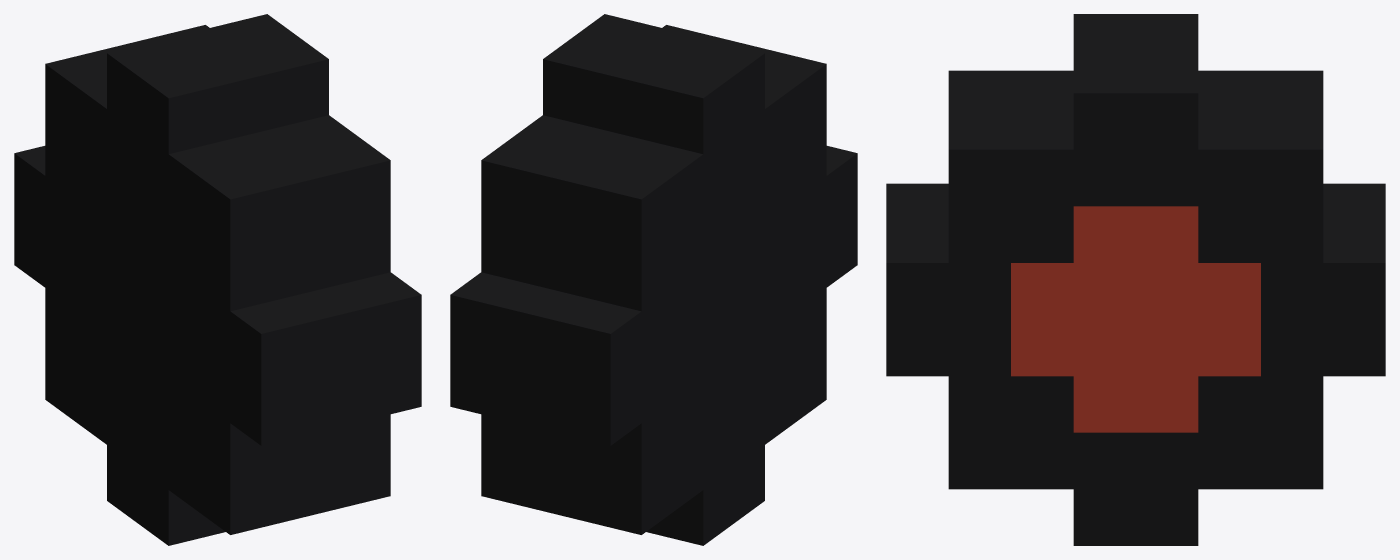
The model's file is wheel_apex.obj.
3 renders of one model, left to right at view 1: azimuth 30°, elevation 25°; view 2: azimuth 150°, elevation 25°; view 3: azimuth 270°, elevation 25°, orthographic.
Bounding box in the file's own units: 0.3 × 0.8 × 0.8.
Materials: 1 (1 with a texture image).
